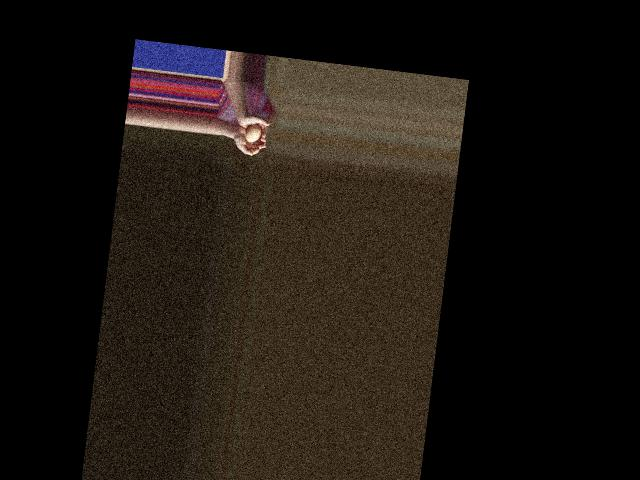egg: (245, 123, 262, 143)
